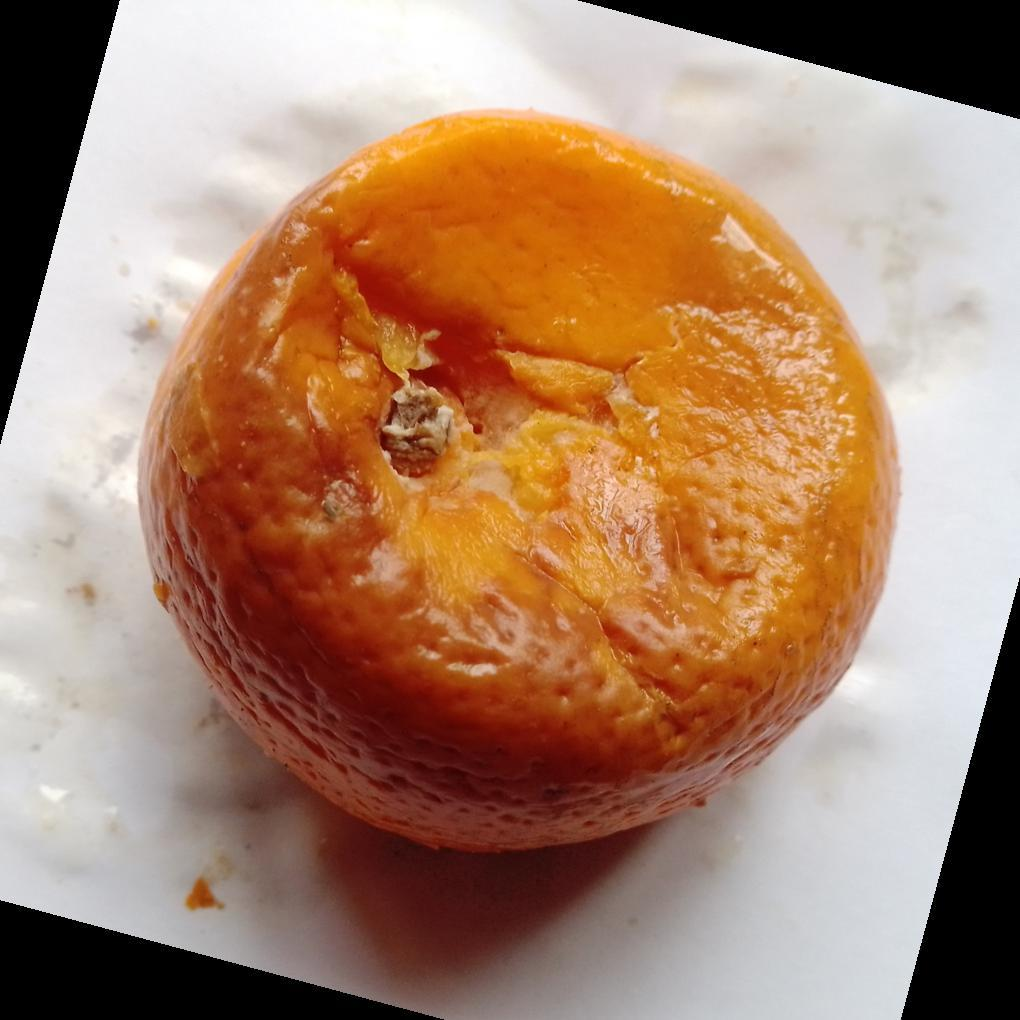FreshOrange: (135, 109, 902, 859)
